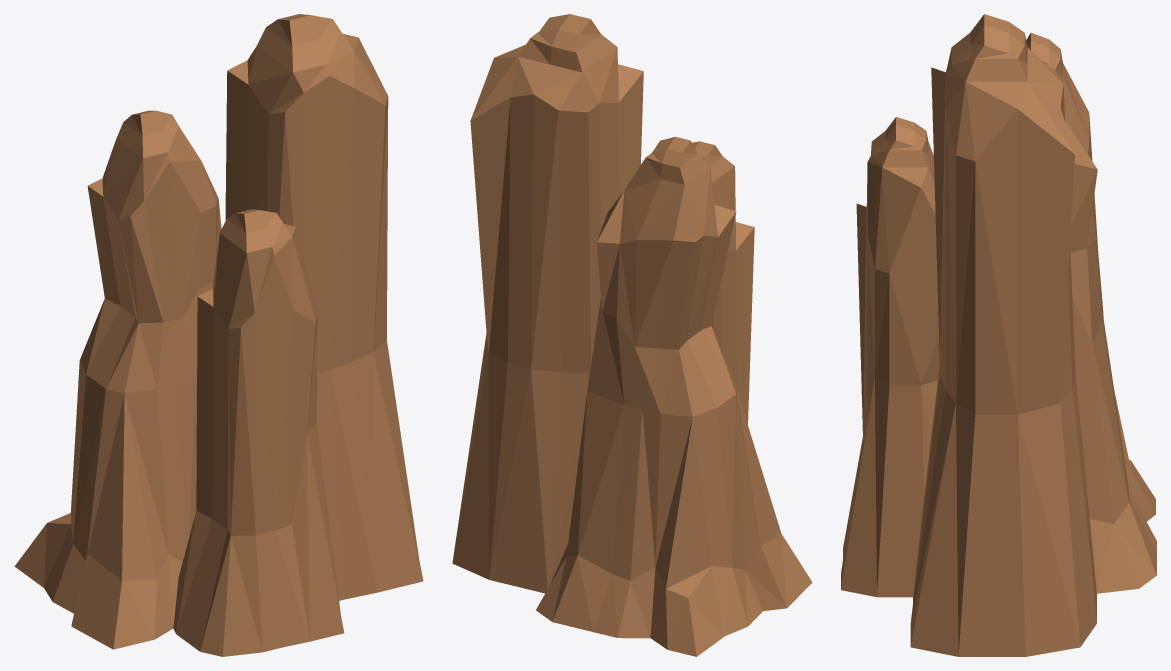
File: Rock_12.fbx
3 renders of one model, left to right at view 1: azimuth 30°, elevation 25°; view 2: azimuth 150°, elevation 25°; view 3: azimuth 270°, elevation 25°, orthographic. The views are drawn at different scales.
Visible parts, largest first — view 1: Rock_12; view 2: Rock_12; view 3: Rock_12.
Part boxes in pixels (<box>): Rock_12: <box>14,14,423,656</box>; Rock_12: <box>452,14,812,656</box>; Rock_12: <box>841,14,1156,656</box>.
Bounding box in the file's own units: 208 × 166 × 337.
